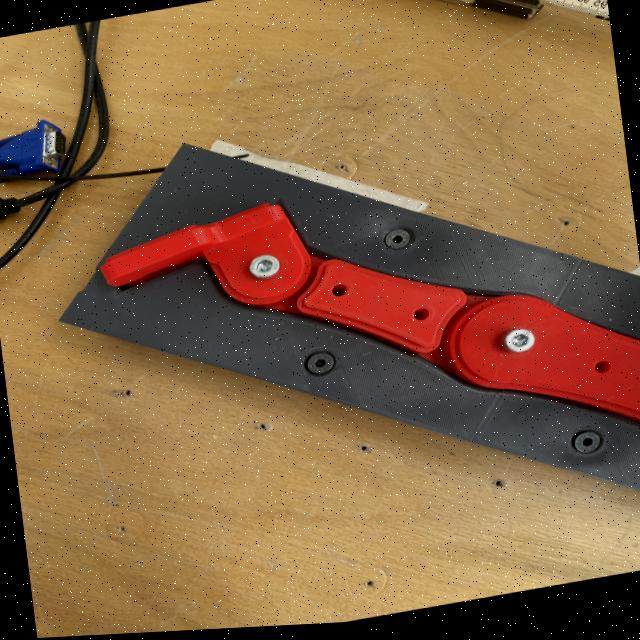Hex Socket Allen: (248, 251, 282, 282), (504, 326, 536, 354), (572, 428, 602, 455), (382, 225, 412, 251), (306, 350, 336, 376)
